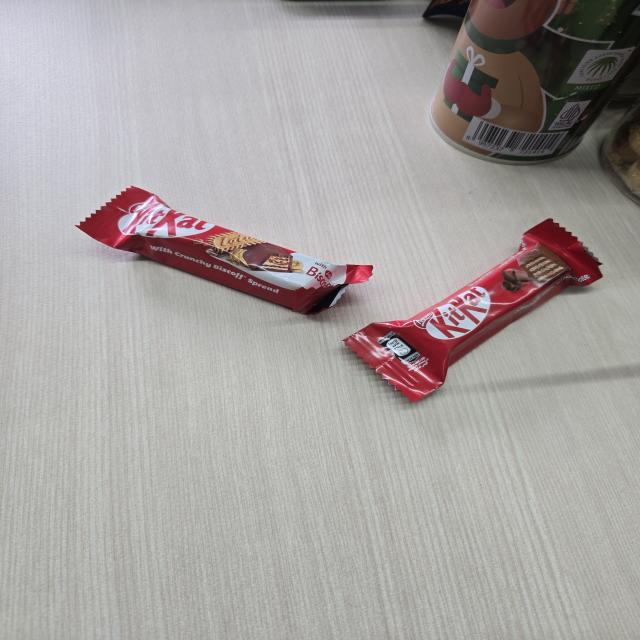chocolate-bar: (342, 215, 607, 418), (63, 174, 376, 324)
